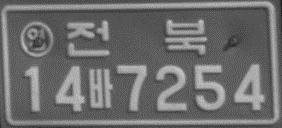1: (18, 64, 49, 113)
2: (155, 64, 188, 112)
4: (234, 63, 264, 110), (54, 66, 85, 111)
5: (193, 64, 226, 111)
7: (115, 63, 146, 111)
바: (87, 67, 113, 110)
영: (19, 20, 54, 58)
전북_D: (64, 18, 208, 58)
